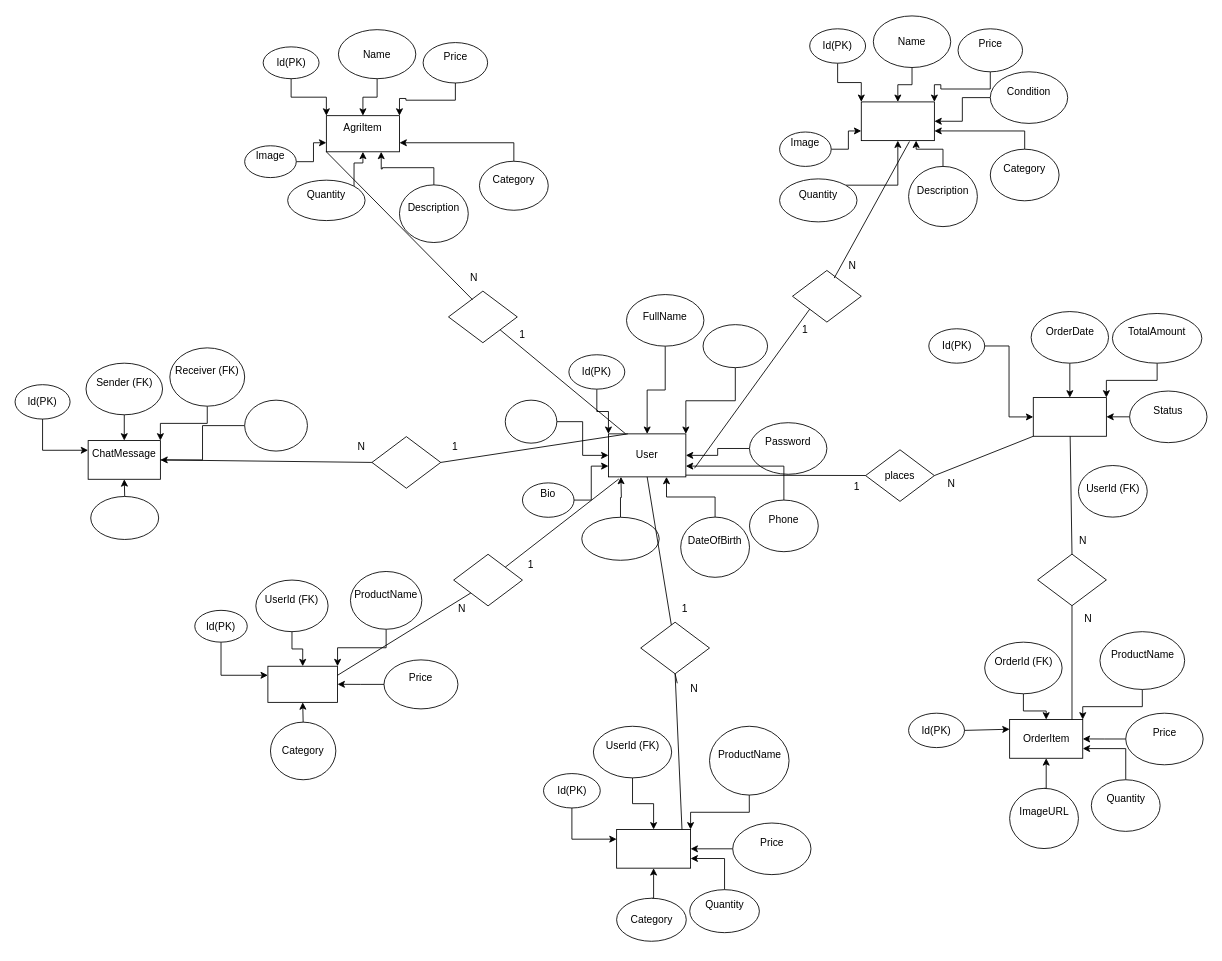
This 1222x961 diagram has some shape labels left out. The centre of each missing label's shape, as x and y in pixels:
"Address" goes at [620,538].
"CartItem" goes at [653,848].
"Content" goes at [275,425].
"Cotains" goes at [1071,579].
"Email" goes at [735,346].
"has" goes at [675,647].
"lists" goes at [826,296].
"Machinery" goes at [897,121].
"Order" goes at [1069,416].
"Posts" goes at [482,316].
"Role" goes at [530,421].
"sends" goes at [406,462].
"TimeStamp" goes at [124,517].
"wishes" goes at [487,579].
"WishListItem" goes at [302,683].
